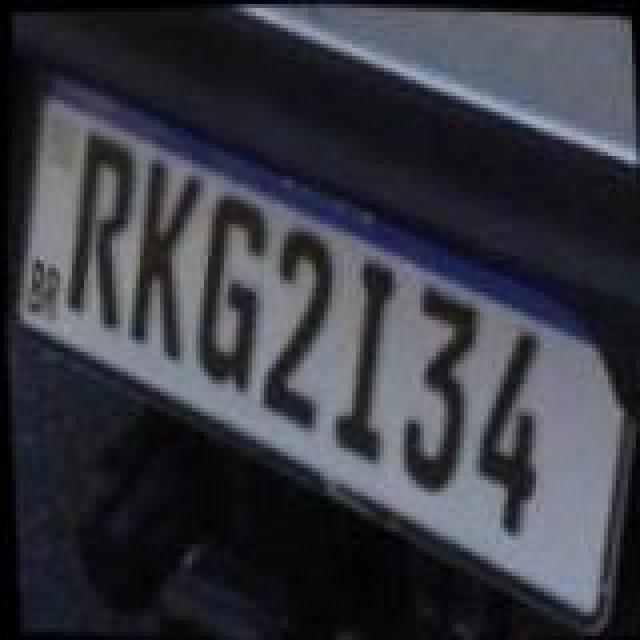2: (240, 220, 344, 436)
3: (386, 276, 490, 496)
4: (456, 318, 552, 538)
G: (182, 188, 278, 400)
I: (318, 252, 406, 468)
K: (116, 154, 216, 370)
R: (48, 124, 140, 332)
